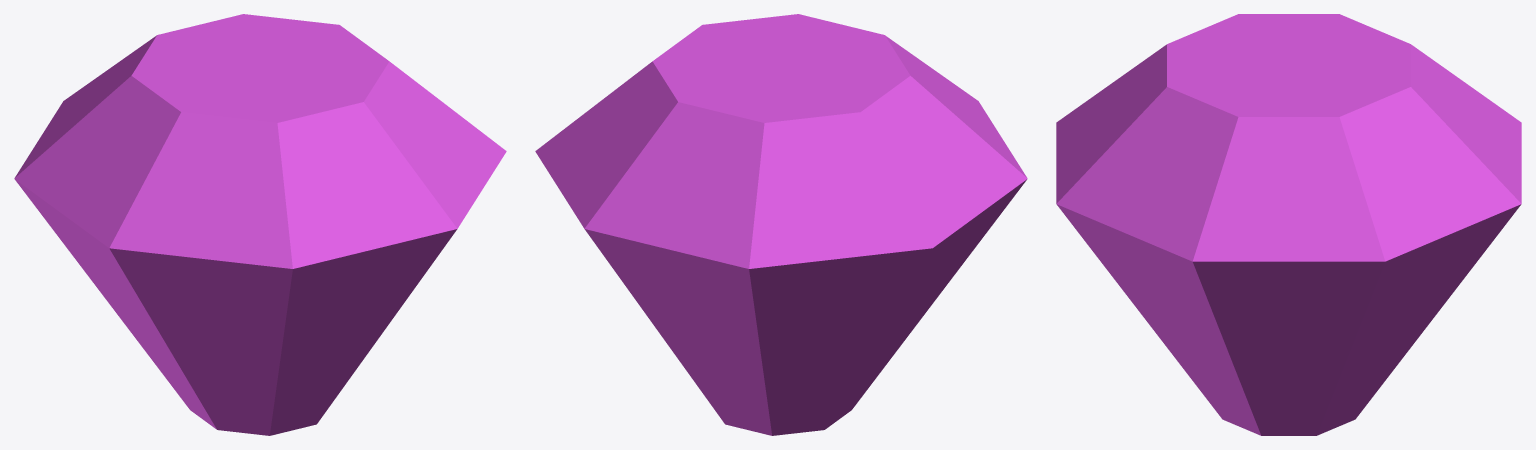
Rendered from Amethyst.fbx.
3 renders of one model, left to right at view 1: azimuth 30°, elevation 25°; view 2: azimuth 150°, elevation 25°; view 3: azimuth 270°, elevation 25°, orthographic.
Parts seen in each view (by area): view 1: Amethyst_Gem; view 2: Amethyst_Gem; view 3: Amethyst_Gem.
Boxes of the visible parts, x1,y1,x2,y2 form: Amethyst_Gem: (14,14,506,435); Amethyst_Gem: (535,14,1027,435); Amethyst_Gem: (1056,14,1521,435).
Size of the model in its own units: 0.7761 by 0.63 by 0.7761.
